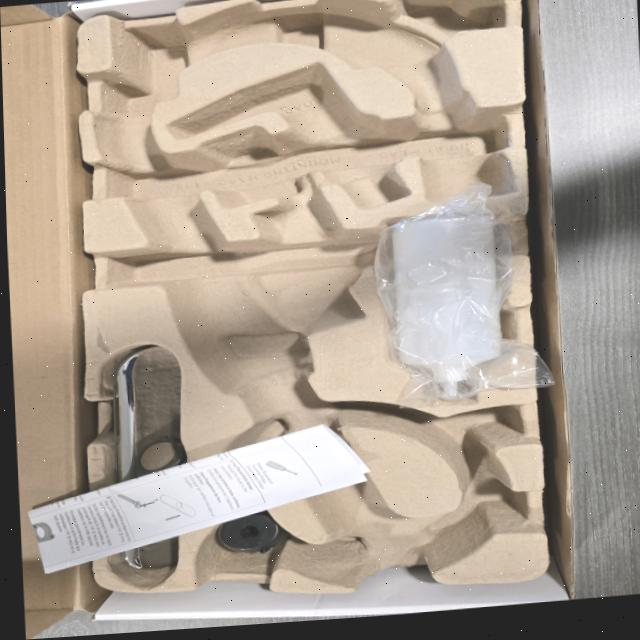1m: (98, 0, 516, 587)
2m: (169, 62, 411, 207)
3: (389, 209, 507, 399)
4o: (107, 345, 188, 567)
5o: (217, 500, 281, 553)
6m: (424, 469, 523, 554)
7m: (377, 403, 517, 469)
8: (25, 423, 371, 574)
